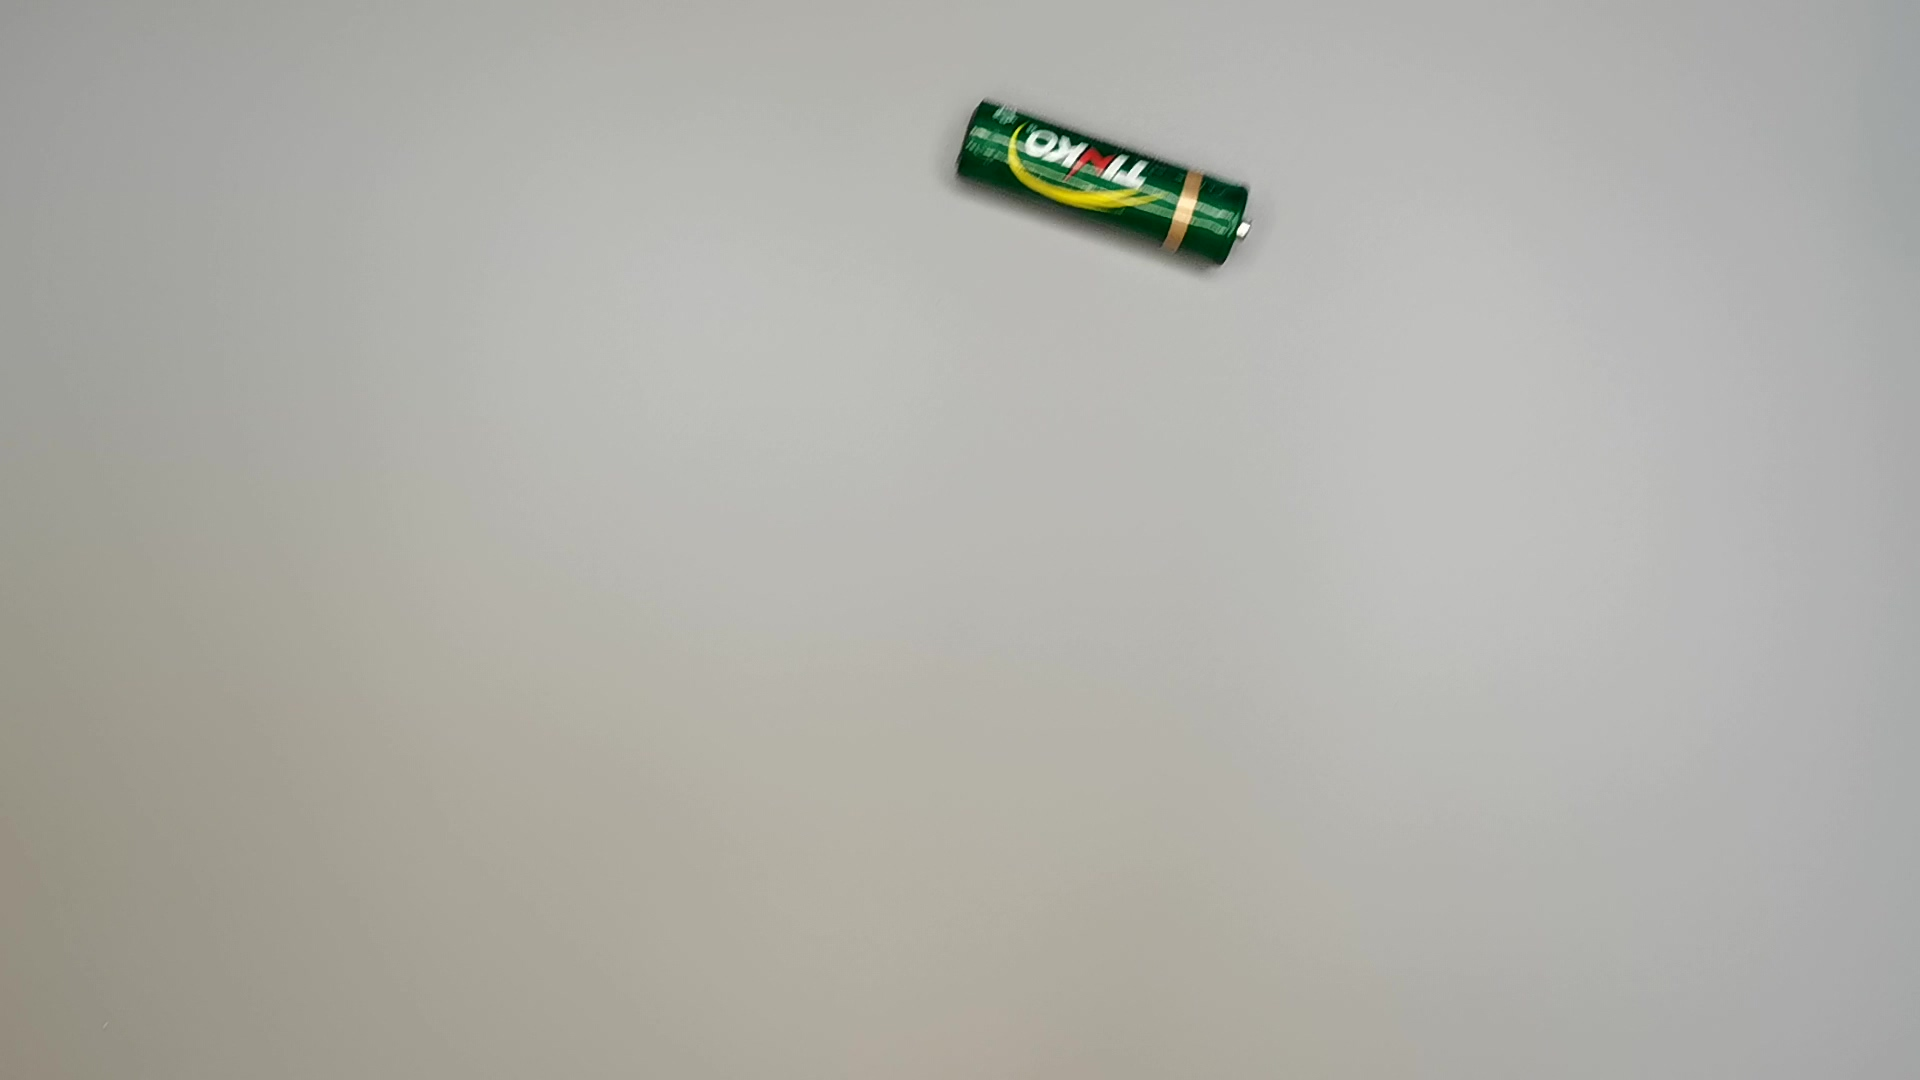battery: (943, 95, 1258, 274)
